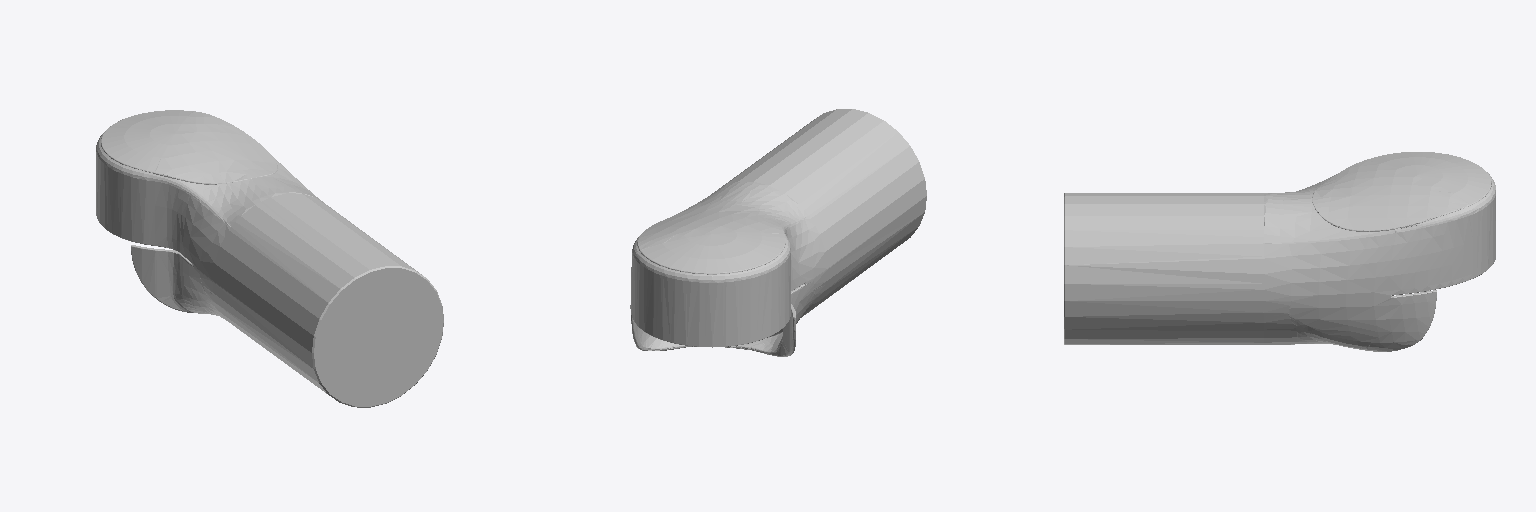
Rendered from arm_3.obj.
The picture shows the model from 3 angles: view 1: azimuth 30°, elevation 25°; view 2: azimuth 150°, elevation 25°; view 3: azimuth 270°, elevation 25°; orthographic projection.
Parts seen in each view (by area): view 1: arm_3; view 2: arm_3; view 3: arm_3.
Boxes of the visible parts, x1=… form: arm_3: x1=96, y1=110, x2=443, y2=407; arm_3: x1=630, y1=109, x2=926, y2=356; arm_3: x1=1064, y1=152, x2=1495, y2=351.
Bounding box in the file's own units: 0.122 × 0.1084 × 0.283.